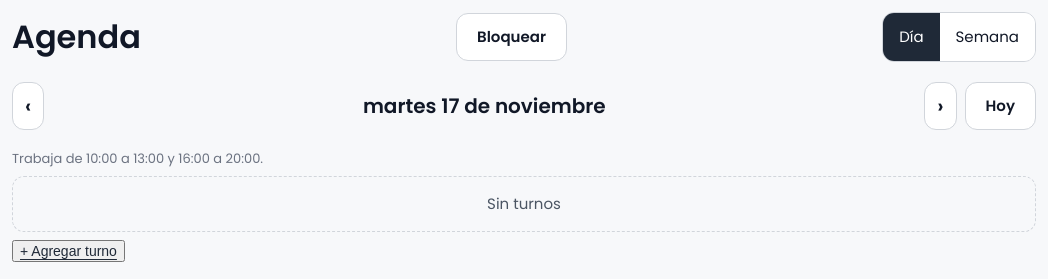
Agenda › HU-17: se pasa al día siguiente y al anterior, y "Hoy" vuelve
Check: the heading "martes 17 de noviembre" is shown, box [363,92,606,120]
Click the button named "Día siguiente": (940, 106) [924,82,957,130]
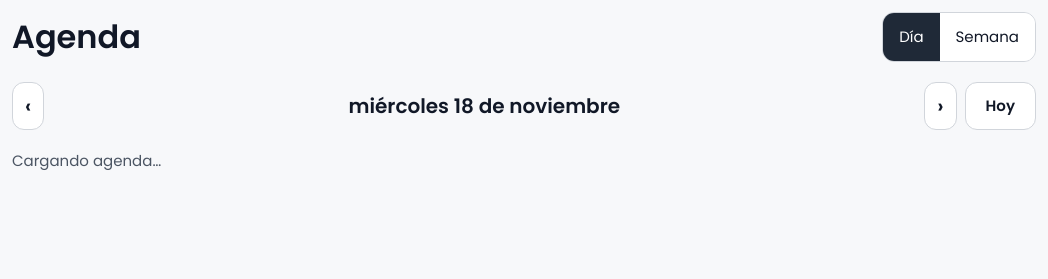
Check: the heading "miércoles 18 de noviembre" is shown, box [348,92,620,120]
Click the button named "Día anterior": (28, 106) [12,82,44,130]
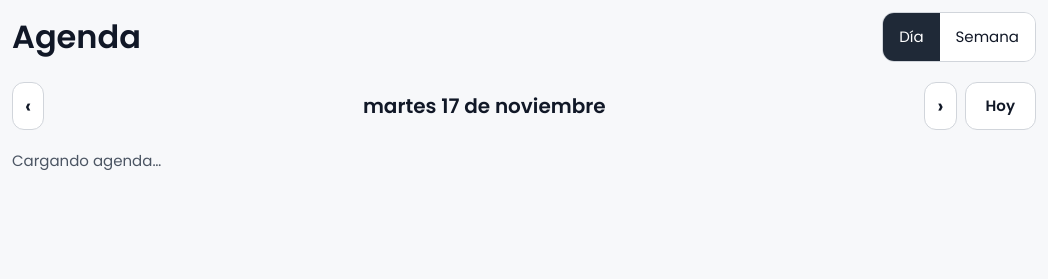
Click the button named "Día anterior": (28, 106) [12,82,44,130]
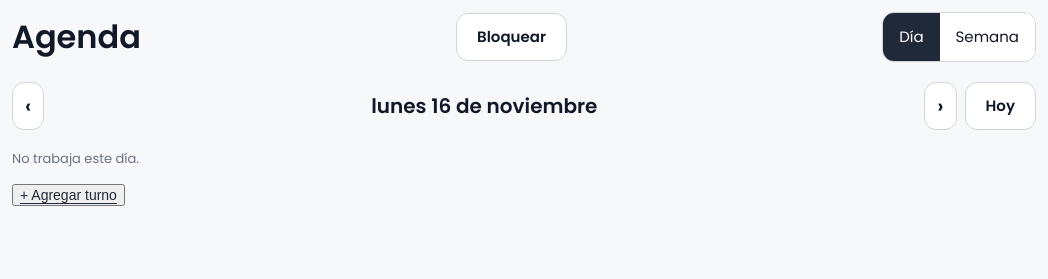
Check: the heading "lunes 16 de noviembre" is shown, box [371,92,598,120]
Click the button "Hoy": (1000, 106) [965,82,1036,130]
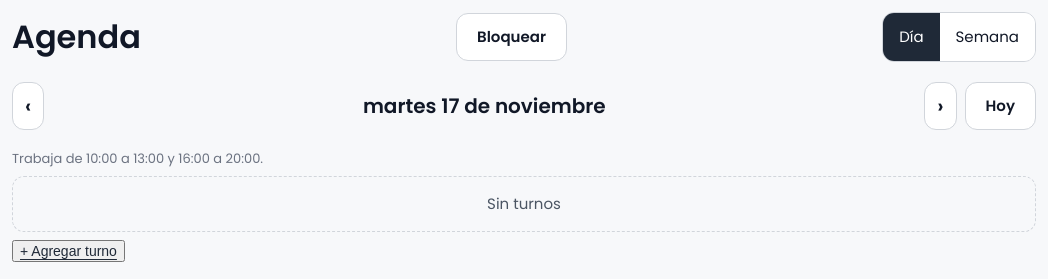
Check: the heading "martes 17 de noviembre" is shown, box [363,92,606,120]
